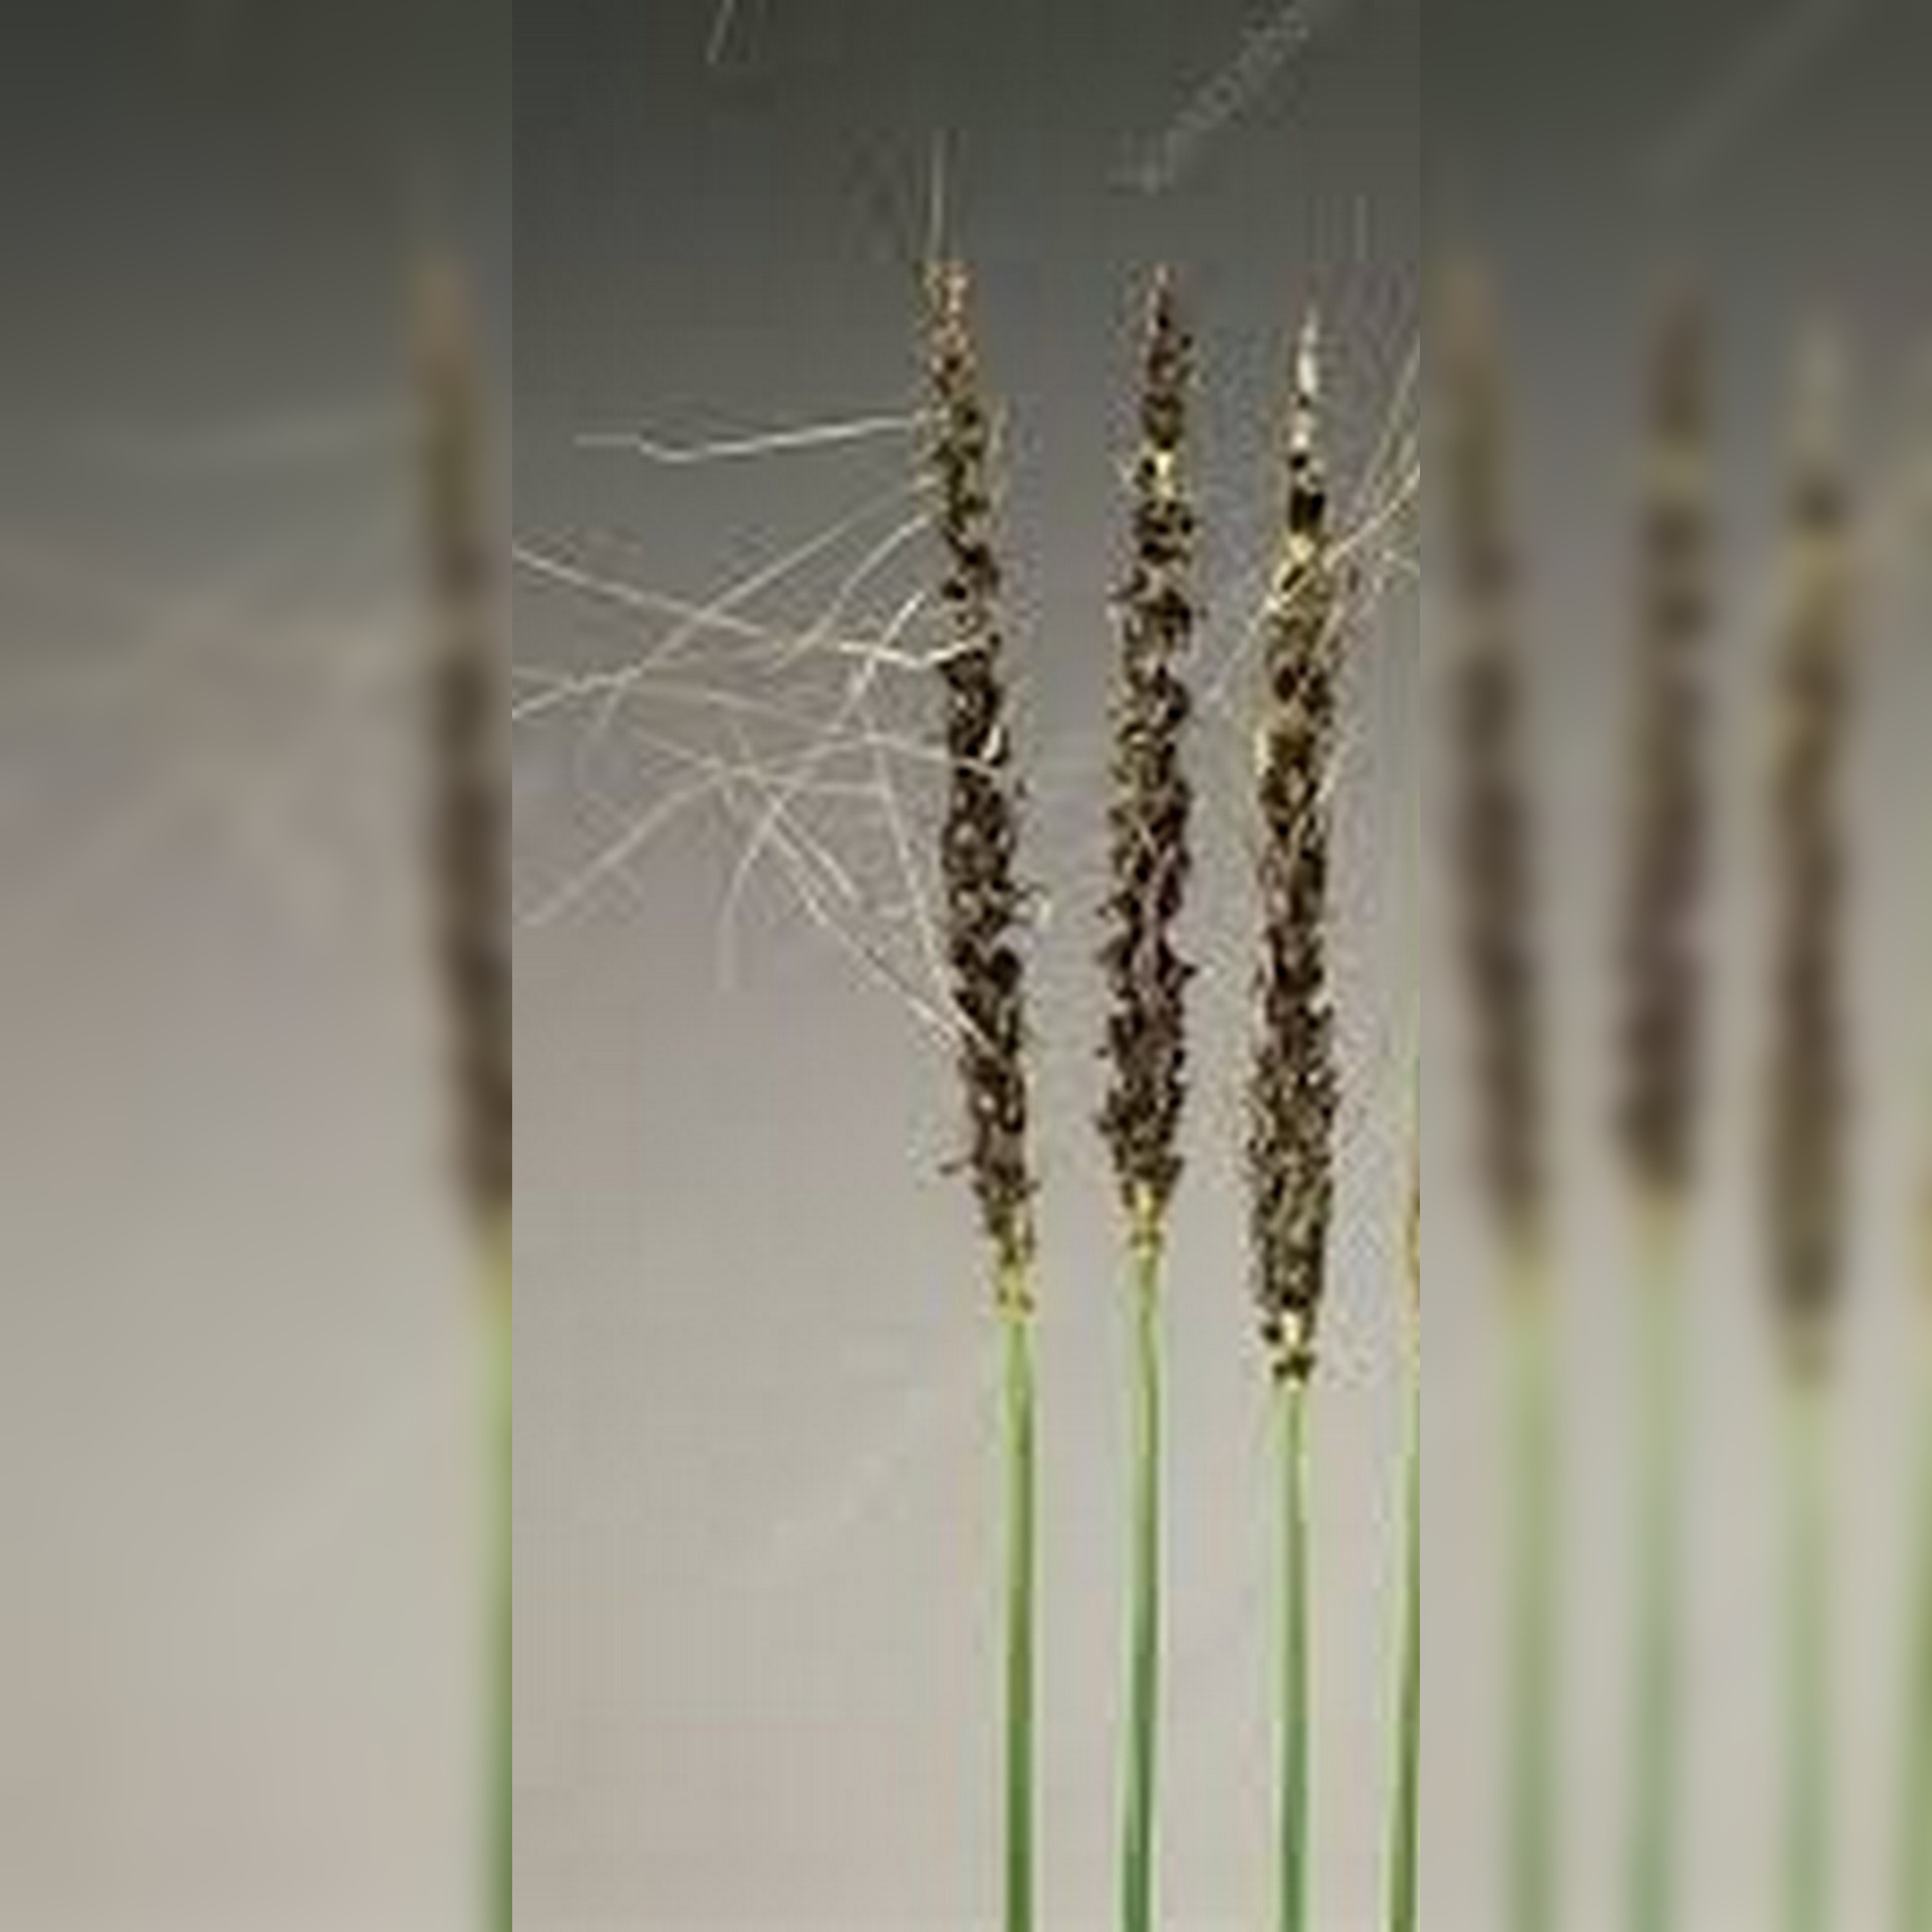Wheat Loose Smut: (856, 290, 1407, 1288)
